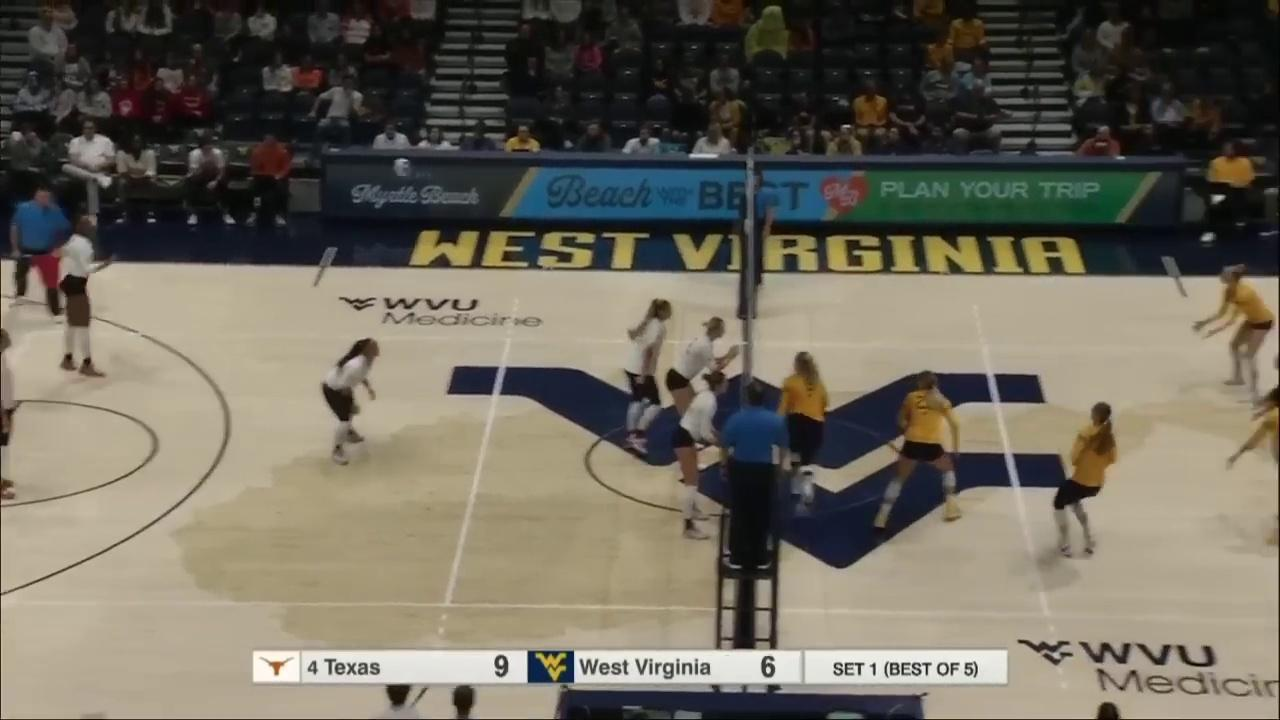player: (875, 367, 963, 530), (669, 316, 739, 472), (1197, 265, 1275, 400), (49, 221, 115, 377), (1053, 401, 1117, 557), (676, 375, 735, 539), (773, 349, 830, 516), (321, 337, 385, 467), (623, 297, 673, 455), (0, 329, 23, 501)
refree: (721, 381, 787, 569), (9, 187, 69, 318), (738, 173, 777, 287)
